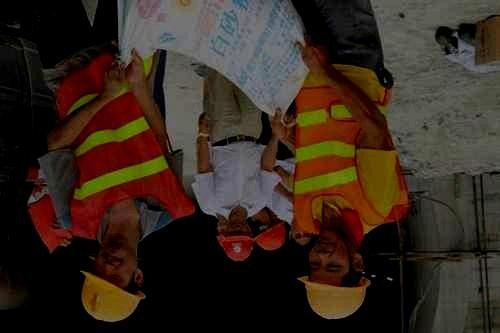helmet: (296, 230, 371, 319), (81, 242, 146, 323), (221, 211, 256, 261), (252, 208, 287, 251), (216, 218, 227, 248)
